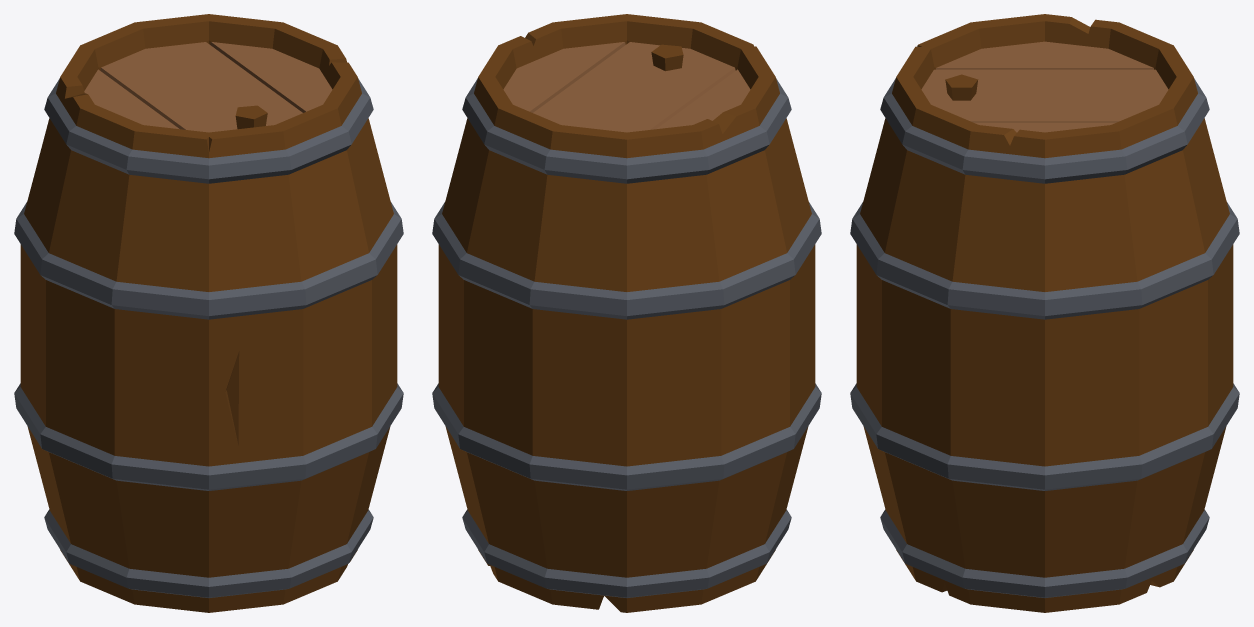
Rendered from LargeBarrel.fbx.
3 renders of one model, left to right at view 1: azimuth 30°, elevation 25°; view 2: azimuth 150°, elevation 25°; view 3: azimuth 270°, elevation 25°, orthographic.
Parts seen in each view (by area): view 1: LargeBarrel; view 2: LargeBarrel; view 3: LargeBarrel.
Part boxes in pixels (x1,y1,x2,y2): LargeBarrel: [14, 14, 403, 612]; LargeBarrel: [432, 14, 821, 612]; LargeBarrel: [850, 14, 1239, 612].
Size of the model in its own units: 80.75 by 108 by 80.75.
